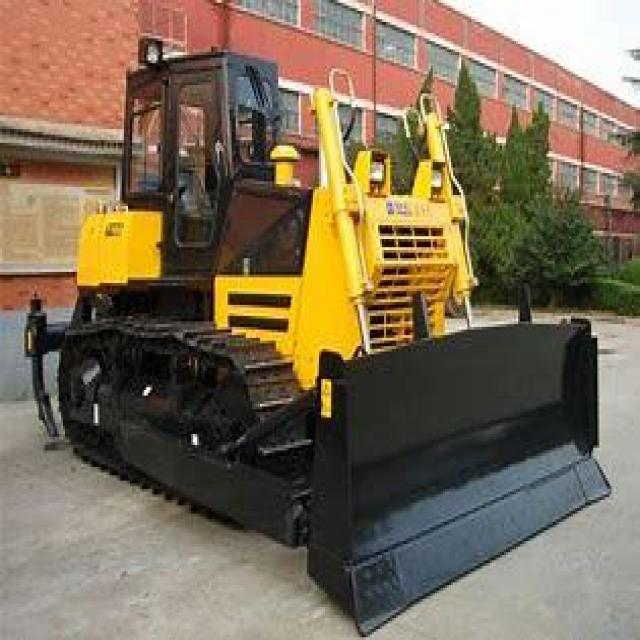Bulldozer: (22, 38, 624, 632)
